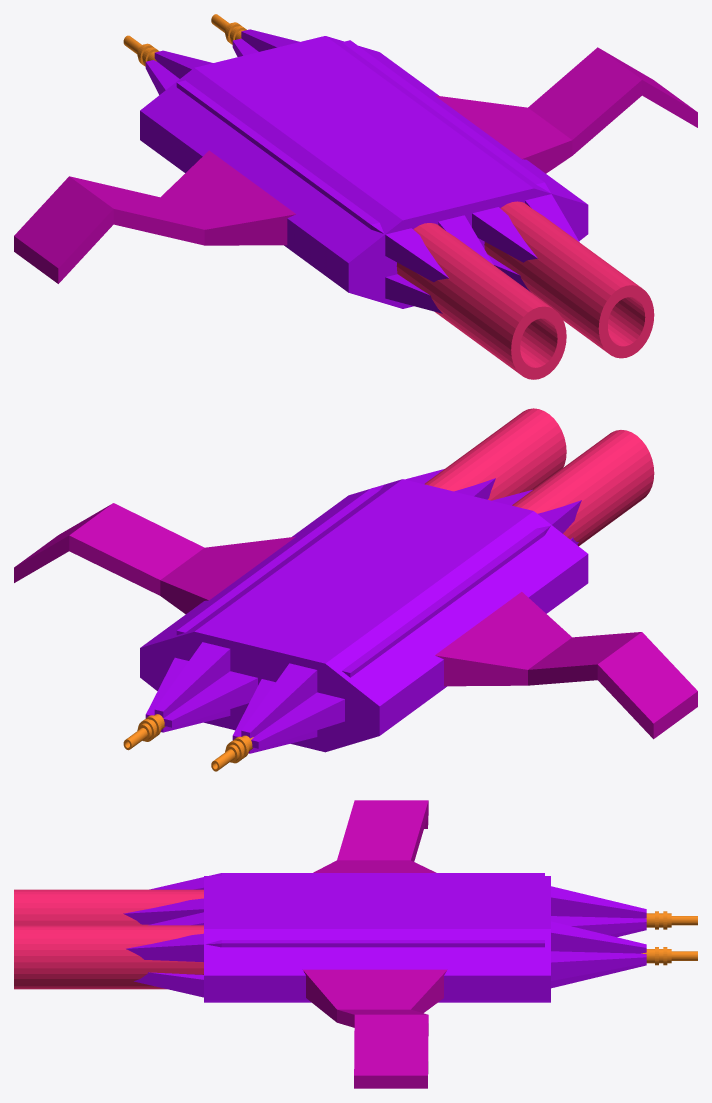
The model's file is player.glb.
The picture shows the model from 3 angles, top to bottom: view 1: azimuth 30°, elevation 25°; view 2: azimuth 150°, elevation 25°; view 3: azimuth 270°, elevation 25°; orthographic projection. The views are drawn at different scales.
Visible parts, largest first — view 1: Body, Wings, Jets, Engine, Weapon; view 2: Body, Wings, Engine, Jets, Weapon; view 3: Body, Wings, Engine, Jets, Weapon.
Boxes of the visible parts, <box> form: Body: <box>140,36,588,308</box>; Wings: <box>14,47,697,283</box>; Jets: <box>396,201,654,379</box>; Engine: <box>145,29,579,313</box>; Weapon: <box>123,14,246,66</box>; Body: <box>140,479,588,752</box>; Wings: <box>14,503,697,739</box>; Engine: <box>145,469,581,753</box>; Jets: <box>424,408,654,546</box>; Weapon: <box>123,714,253,771</box>; Body: <box>204,876,550,1002</box>; Wings: <box>303,800,447,1088</box>; Engine: <box>123,873,646,997</box>; Jets: <box>14,889,203,989</box>; Weapon: <box>641,911,697,965</box>.
Size of the model in its own units: 4.09 by 0.5418 by 4.55.
Materials: 1 (1 with a texture image).
